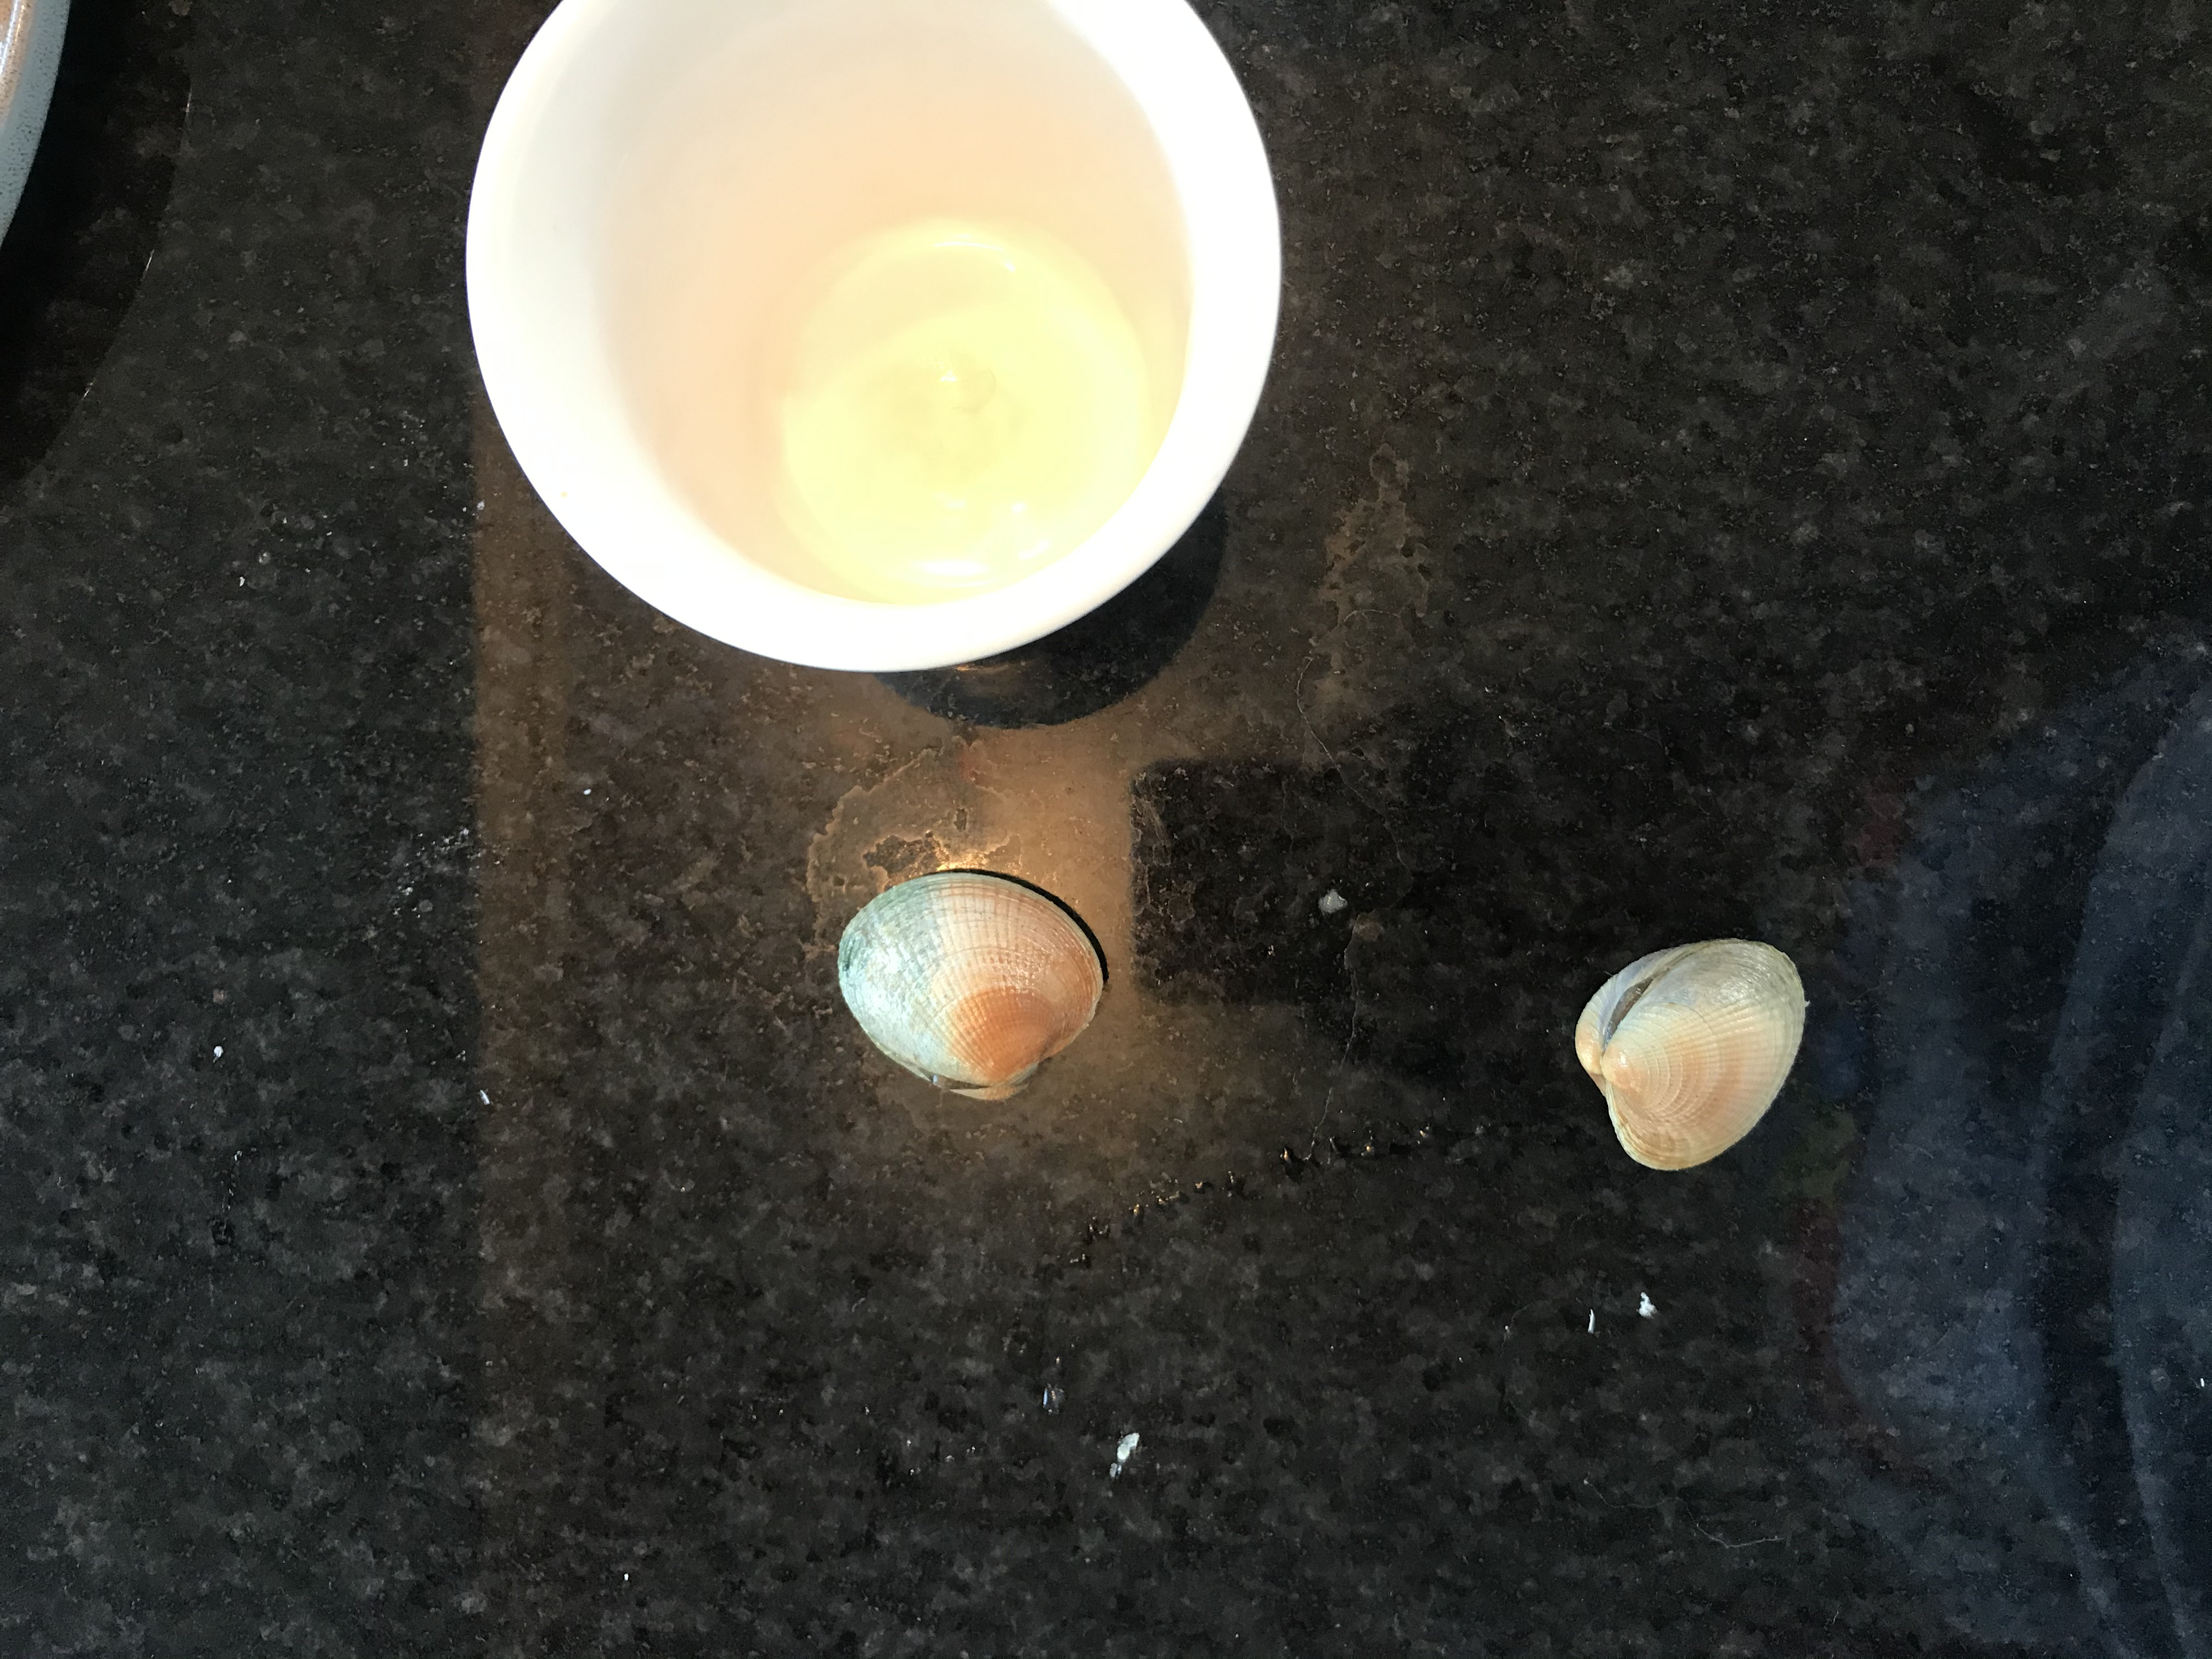cockle: (826, 866, 1108, 1108), (1568, 936, 1811, 1176)
